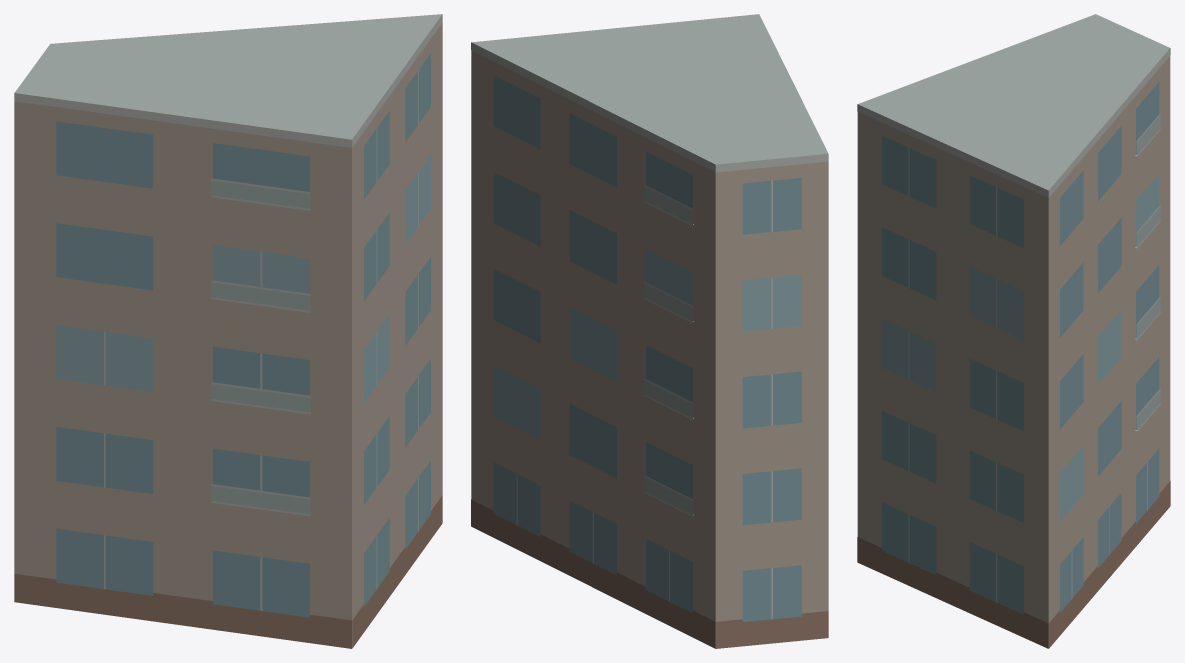
Rendered from survey-upis-32841438.glb.
3 views of the same model, side by side, from view 1: azimuth 30°, elevation 25°; view 2: azimuth 150°, elevation 25°; view 3: azimuth 270°, elevation 25° (orthographic). The views are drawn at different scales.
Visible parts, largest first — view 1: survey-upis-32841438.tmp; view 2: survey-upis-32841438.tmp; view 3: survey-upis-32841438.tmp.
Part boxes in pixels (x1=…): survey-upis-32841438.tmp: x1=14, y1=14, x2=442, y2=648; survey-upis-32841438.tmp: x1=471, y1=14, x2=828, y2=648; survey-upis-32841438.tmp: x1=857, y1=14, x2=1170, y2=648.
Size of the model in its own units: 12.48 by 15.1 by 9.35.
